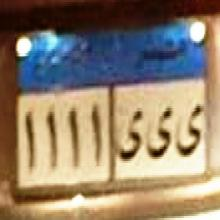1: (23, 105, 37, 172), (66, 107, 81, 167), (44, 107, 58, 171), (91, 101, 102, 165)
yaa: (174, 99, 208, 158), (145, 104, 172, 162), (118, 105, 144, 164)
